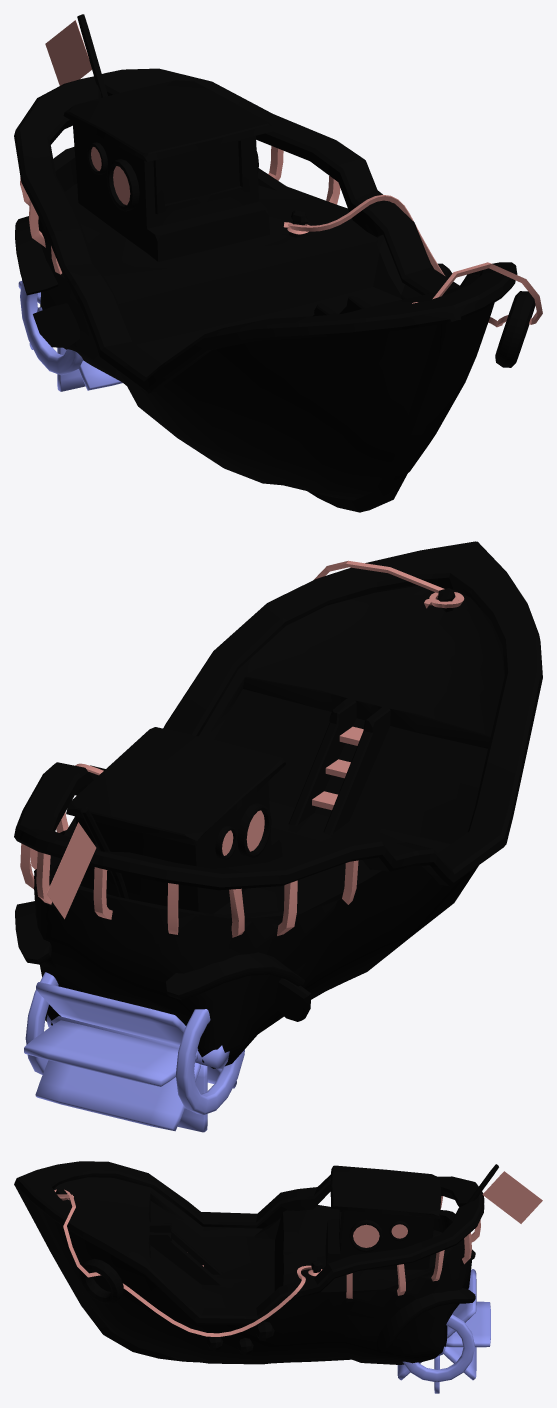
File: Wheel_Boat_06_Lp.fbx
3 views of the same model, one above another, from view 1: azimuth 30°, elevation 25°; view 2: azimuth 150°, elevation 25°; view 3: azimuth 270°, elevation 25° (orthographic). The views are drawn at different scales.
Parts seen in each view (by area): view 1: Boat_UVs_Lp, Wheel_Lp; view 2: Boat_UVs_Lp, Wheel_Lp; view 3: Boat_UVs_Lp, Wheel_Lp.
Boxes of the visible parts, <box> form: Boat_UVs_Lp: <box>14,14,542,512</box>; Wheel_Lp: <box>18,280,122,391</box>; Boat_UVs_Lp: <box>14,541,542,1068</box>; Wheel_Lp: <box>24,972,244,1132</box>; Boat_UVs_Lp: <box>14,1161,542,1364</box>; Wheel_Lp: <box>397,1269,490,1393</box>.
Bounding box in the file's own units: 117 × 103 × 235.
